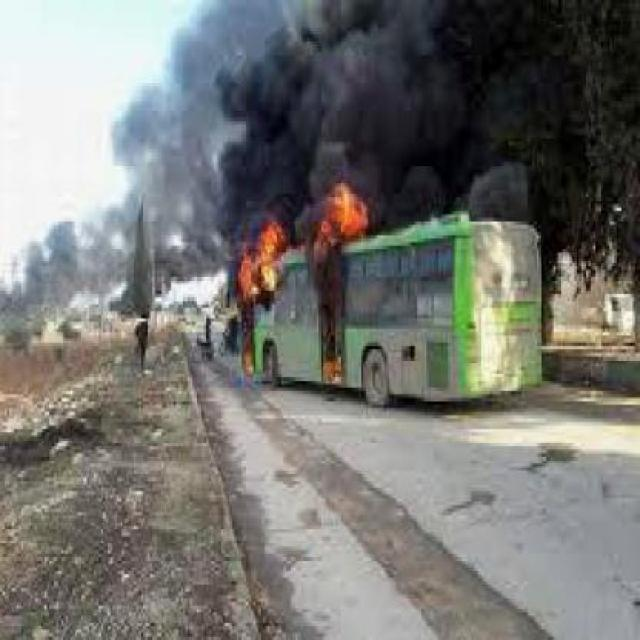Fire: (296, 180, 384, 380)
Smoke: (1, 0, 232, 365), (383, 0, 532, 229), (214, 0, 376, 180)
